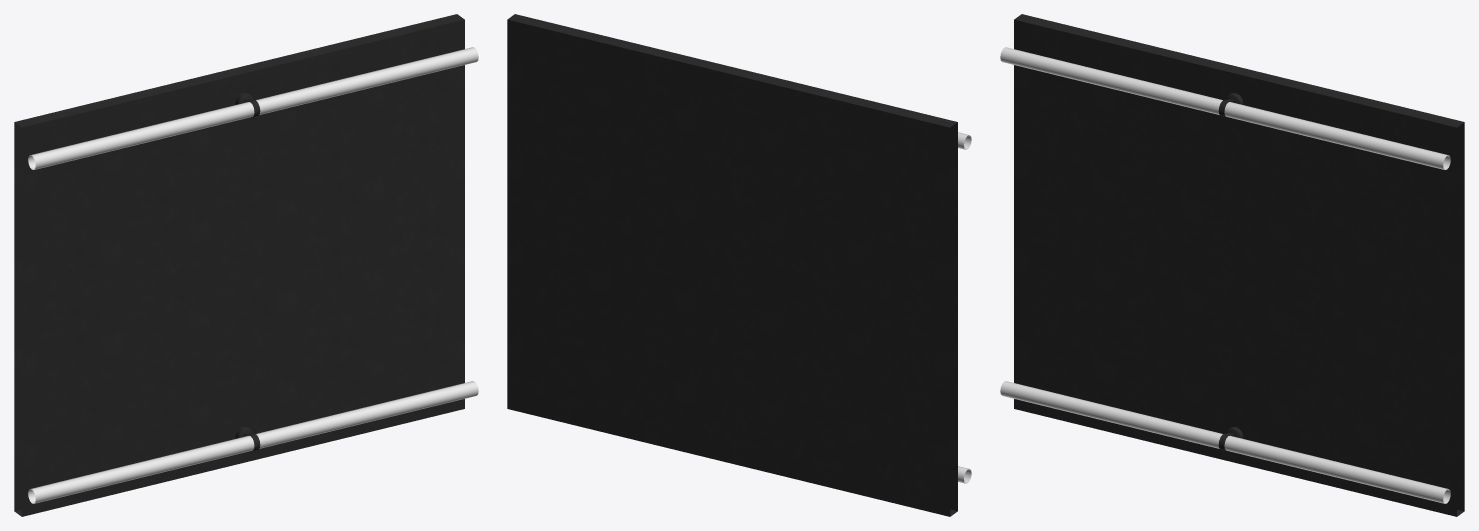
Rendered from LettersNeon01Panel2.FBX.
3 views of the same model, side by side, from view 1: azimuth 30°, elevation 25°; view 2: azimuth 150°, elevation 25°; view 3: azimuth 330°, elevation 25° (orthographic).
Parts seen in each view (by area): view 1: LettersNeon01Panel2; view 2: LettersNeon01Panel2; view 3: LettersNeon01Panel2.
Part boxes in pixels (x1,y1,x2,y2): LettersNeon01Panel2: [14, 14, 478, 516]; LettersNeon01Panel2: [507, 14, 971, 516]; LettersNeon01Panel2: [1000, 14, 1464, 516].
Size of what is drawn, in the model's own units: 1 by 0.84 by 0.0853.
